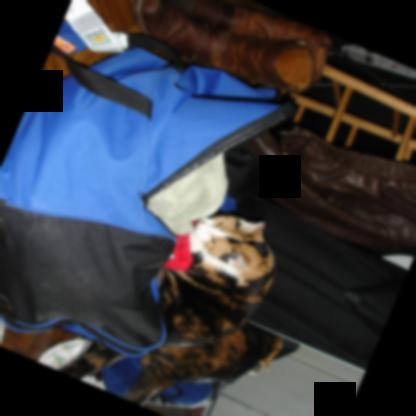suitcase: (0, 46, 295, 357)
